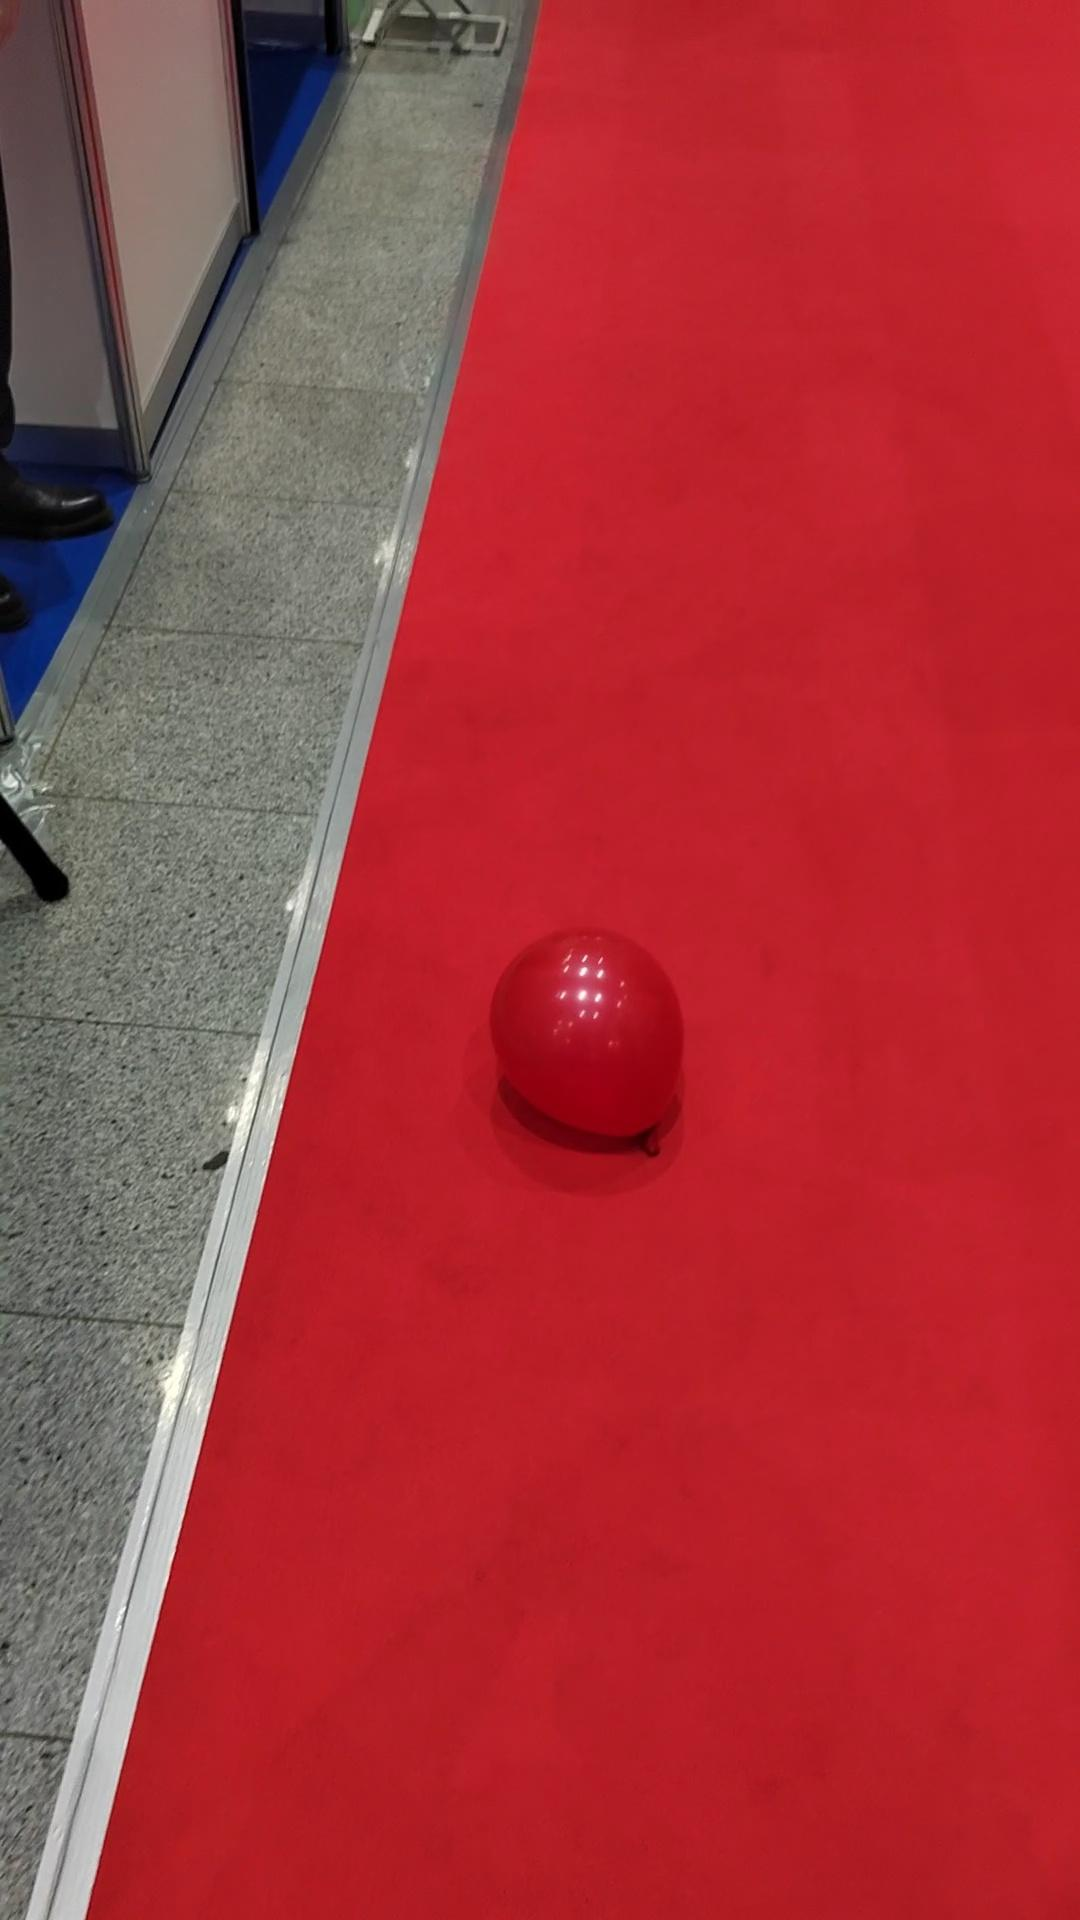red: (480, 920, 699, 1145)
